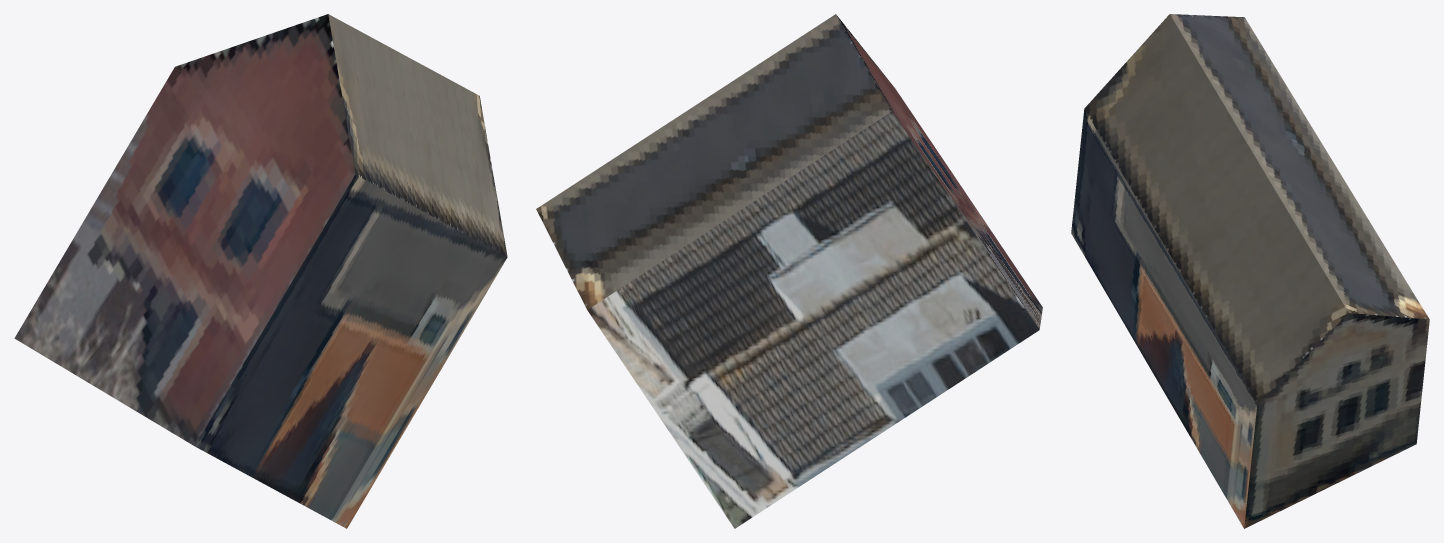
3 renders of one model, left to right at view 1: azimuth 30°, elevation 25°; view 2: azimuth 150°, elevation 25°; view 3: azimuth 270°, elevation 25°, orthographic. The views are drawn at different scales.
Visible parts, largest first — view 1: BAG_0599100000767276 (×4); view 2: BAG_0599100000767276 (×2); view 3: BAG_0599100000767276 (×4).
Boxes of the visible parts, x1,y1,x2,y2 form: BAG_0599100000767276 (×4): (14,14,507,528); BAG_0599100000767276 (×2): (536,14,1042,528); BAG_0599100000767276 (×4): (1071,14,1429,528).
Size of the model in its own units: 14.53 by 14.63 by 9.73.
Materials: 1 (1 with a texture image).
